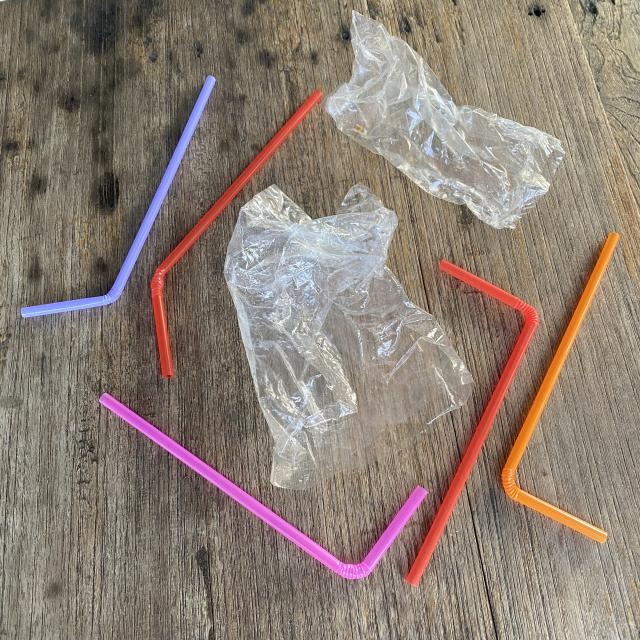Single-layer Plastic: (224, 184, 472, 489), (321, 11, 564, 229)
